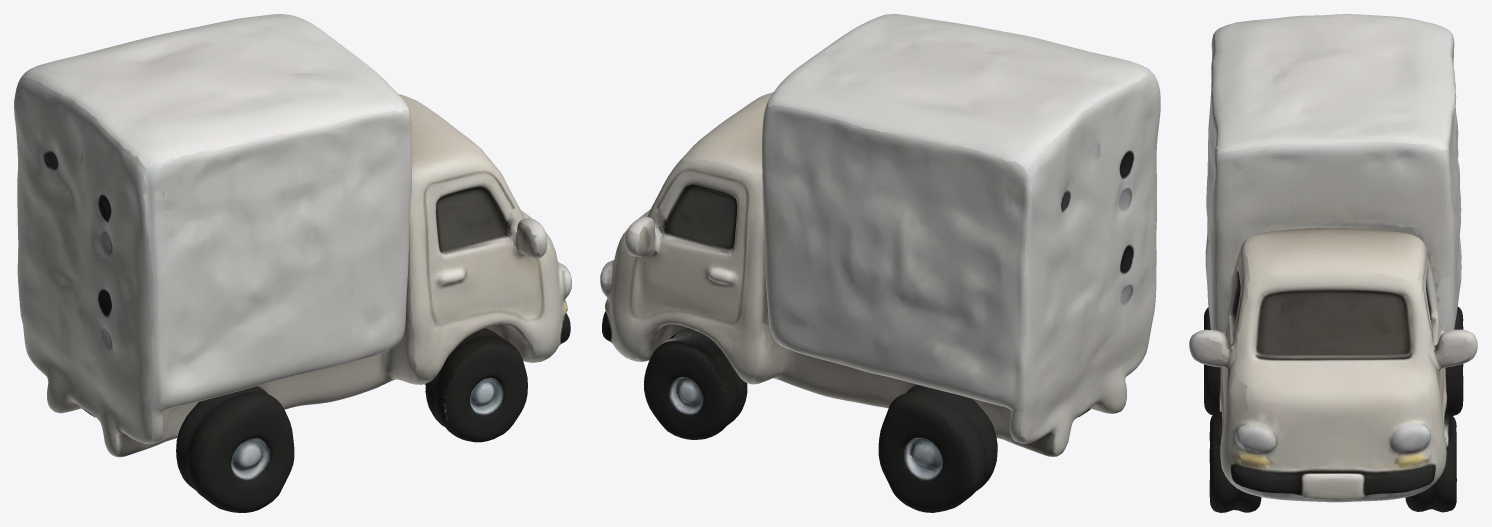
Rendered from truck.glb.
The picture shows the model from 3 angles, left to right: view 1: azimuth 30°, elevation 25°; view 2: azimuth 150°, elevation 25°; view 3: azimuth 270°, elevation 25°; orthographic projection. The views are drawn at different scales.
Parts seen in each view (by area): view 1: tmp7svpgetx.ply; view 2: tmp7svpgetx.ply; view 3: tmp7svpgetx.ply.
Part boxes in pixels (box(x1,y1,x2,y2)): tmp7svpgetx.ply: box(14, 14, 571, 512); tmp7svpgetx.ply: box(600, 14, 1160, 512); tmp7svpgetx.ply: box(1189, 14, 1477, 512).
Bounding box in the file's own units: 0.9882 × 0.7989 × 0.5841.
1 material, 1 textured.
